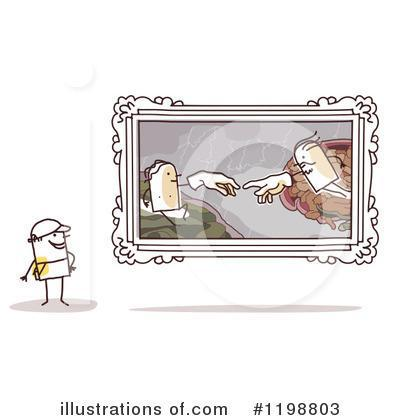person: (18, 218, 81, 306), (290, 134, 352, 199), (143, 158, 197, 225)
